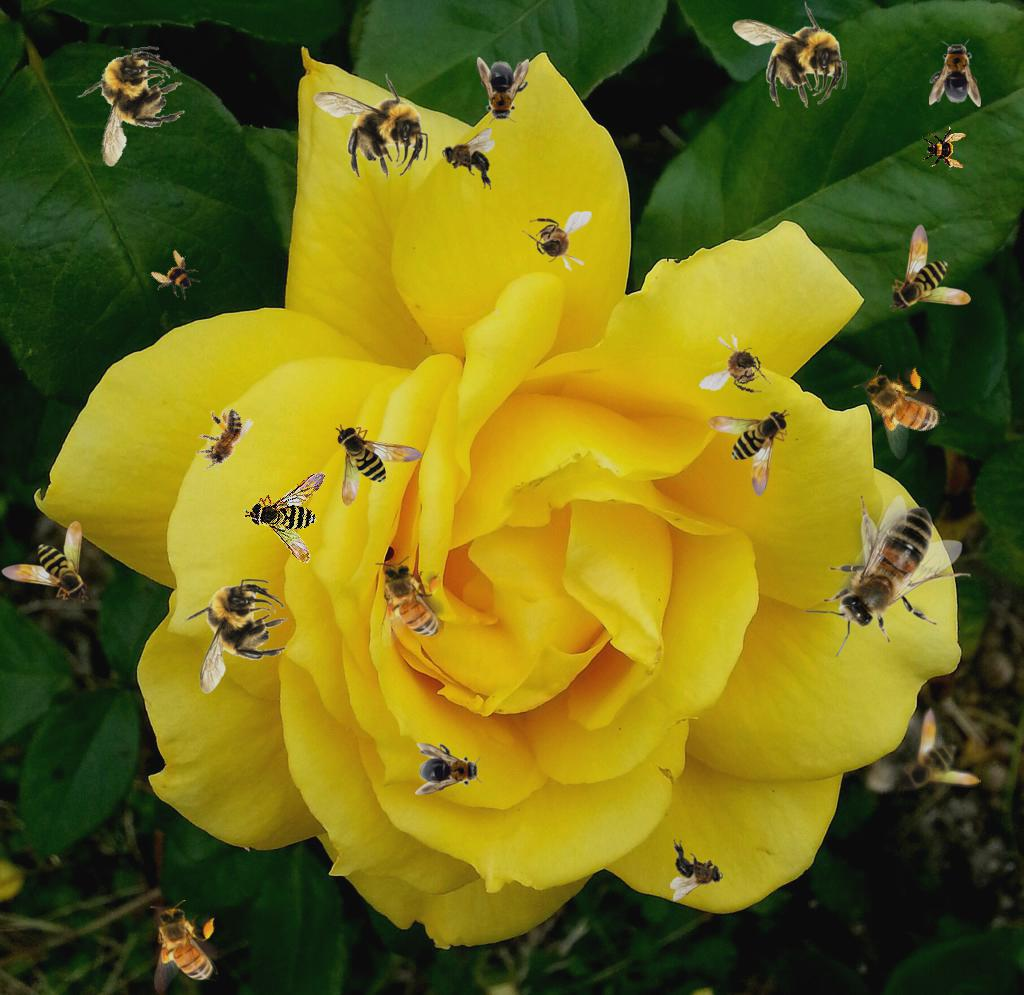Bee: (804, 495, 971, 657), (71, 42, 192, 171), (240, 450, 362, 572), (313, 73, 428, 180), (181, 579, 288, 694), (732, 1, 847, 108), (850, 349, 954, 464), (335, 424, 423, 506), (1, 521, 89, 603), (899, 706, 981, 794), (708, 409, 790, 497), (889, 224, 971, 312), (375, 555, 445, 650), (150, 900, 218, 993), (698, 328, 781, 404), (187, 401, 255, 480), (522, 211, 592, 272), (144, 245, 208, 309), (929, 39, 981, 107), (415, 743, 483, 795), (477, 57, 529, 125), (670, 839, 723, 901), (442, 128, 495, 190), (922, 126, 966, 170)
